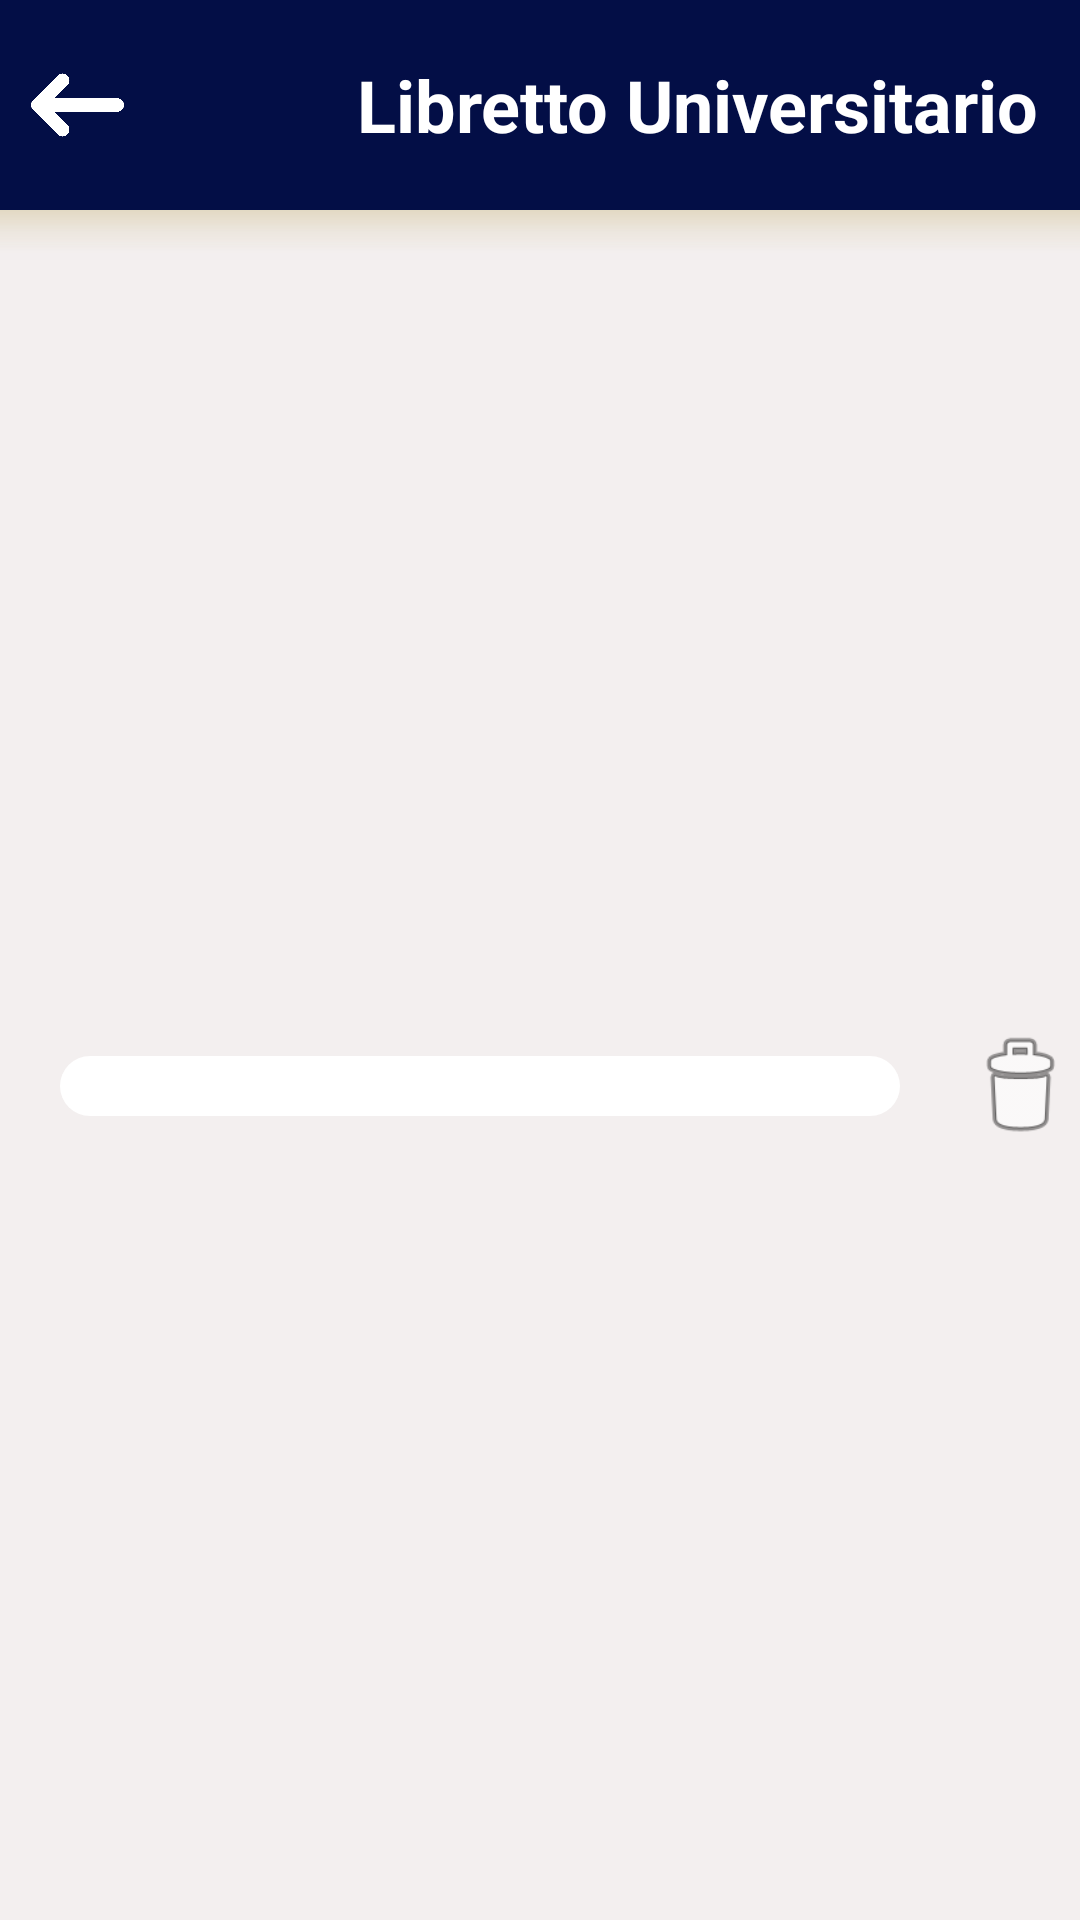

Where to tap for icons on this 1080x1920 app screen, as (x=x, y=y):
delete: (x=1020, y=1084)
indietro: (x=77, y=105)
